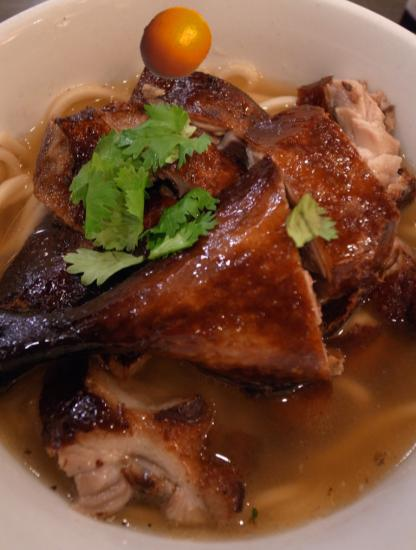Grapefruit: (137, 5, 213, 81)
